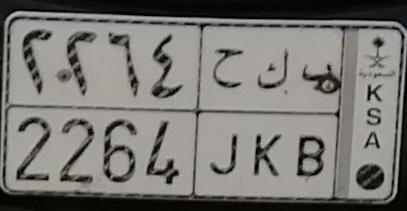2: (59, 29, 98, 185), (15, 28, 53, 183)
4: (146, 32, 181, 185)
6: (102, 31, 140, 184)
B: (296, 63, 333, 177)
J: (210, 47, 245, 179)
K: (253, 47, 289, 179)
